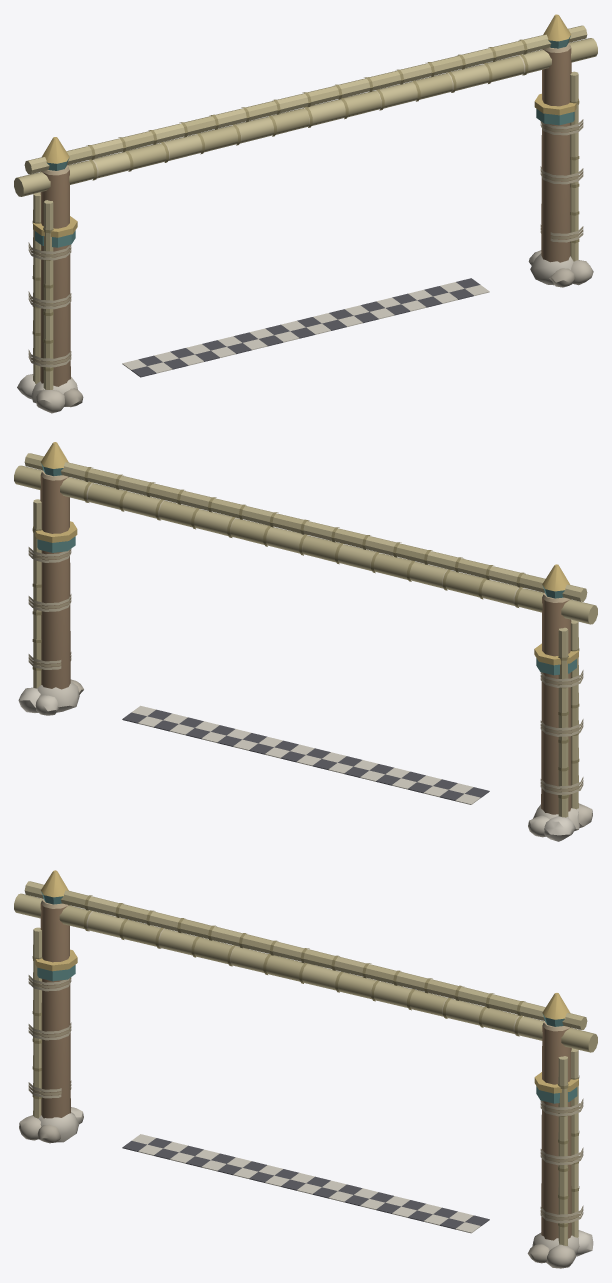
File: island_start_gantry.glb
3 renders of one model, top to bottom at view 1: azimuth 30°, elevation 25°; view 2: azimuth 150°, elevation 25°; view 3: azimuth 330°, elevation 25°, orthographic.
Parts seen in each view (by area): view 1: island_start_gantry; view 2: island_start_gantry; view 3: island_start_gantry.
Boxes of the visible parts, x1=… form: island_start_gantry: x1=14, y1=14, x2=597, y2=413; island_start_gantry: x1=14, y1=442, x2=597, y2=841; island_start_gantry: x1=14, y1=870, x2=597, y2=1268.
Size of the model in its own units: 72.4 by 31.7 by 7.75.
